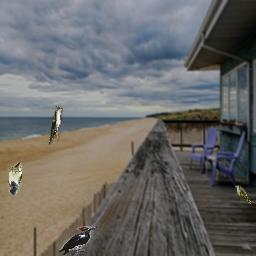Cuckoo: (48, 106, 63, 146), (235, 185, 251, 204)
Swallow: (8, 162, 22, 195)
Woodpecker: (59, 226, 99, 255)
